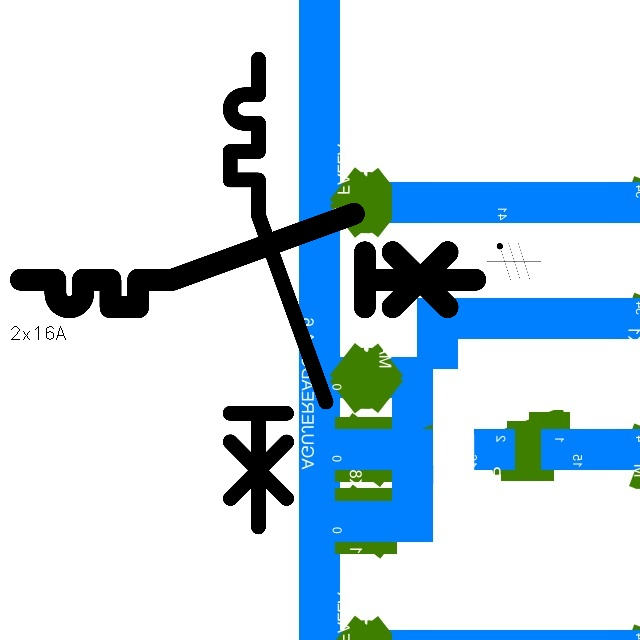interruptor_termomagnetico: (218, 47, 338, 539), (9, 202, 487, 319)
